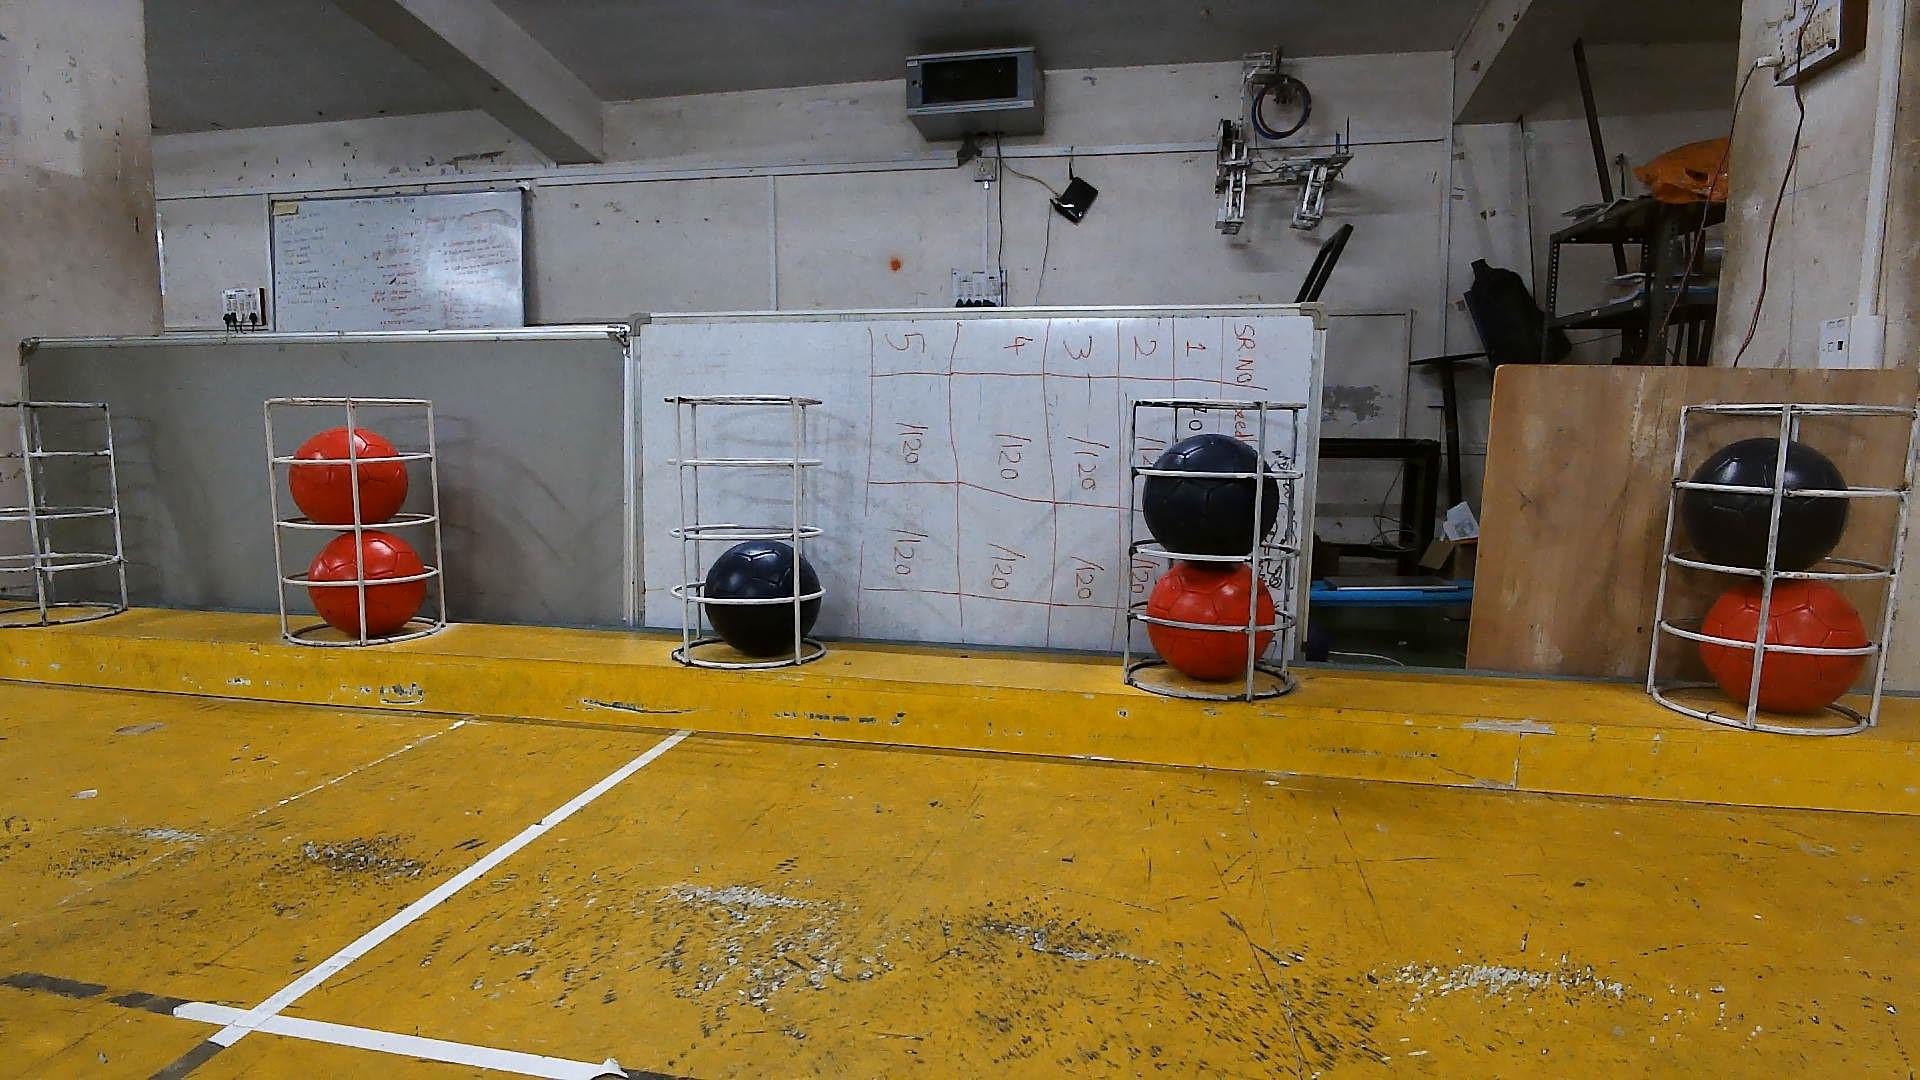dhoka: (1680, 439, 1849, 570), (1139, 431, 1279, 555), (702, 541, 822, 661)
laale: (1695, 578, 1867, 716), (1146, 560, 1262, 683), (307, 533, 427, 637), (285, 430, 405, 524)
